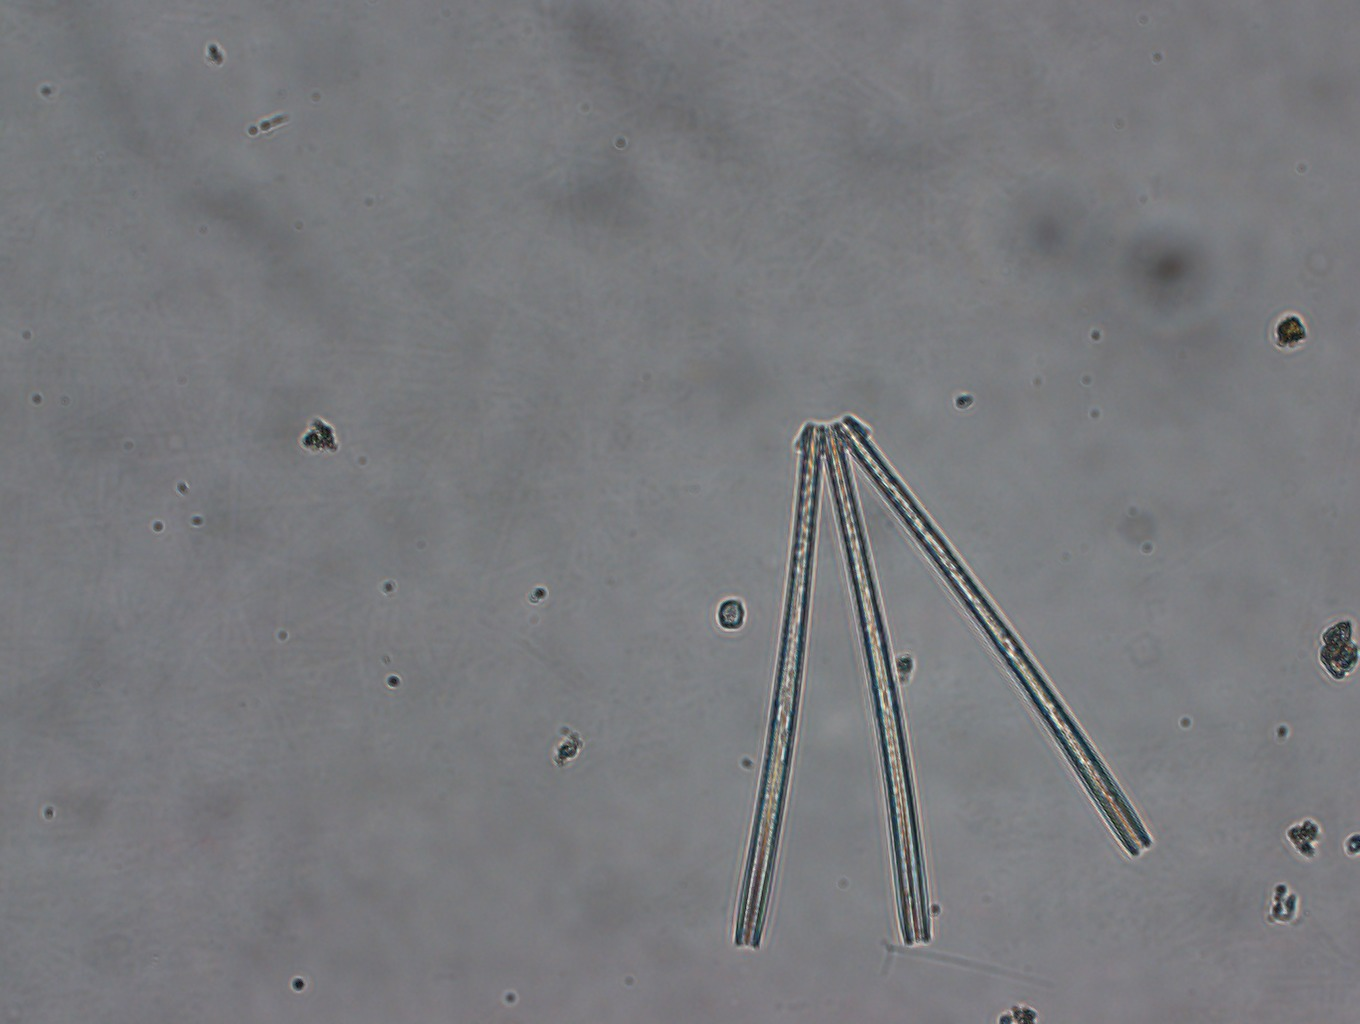thalassionema frauenfeldii: (730, 414, 1154, 951)
